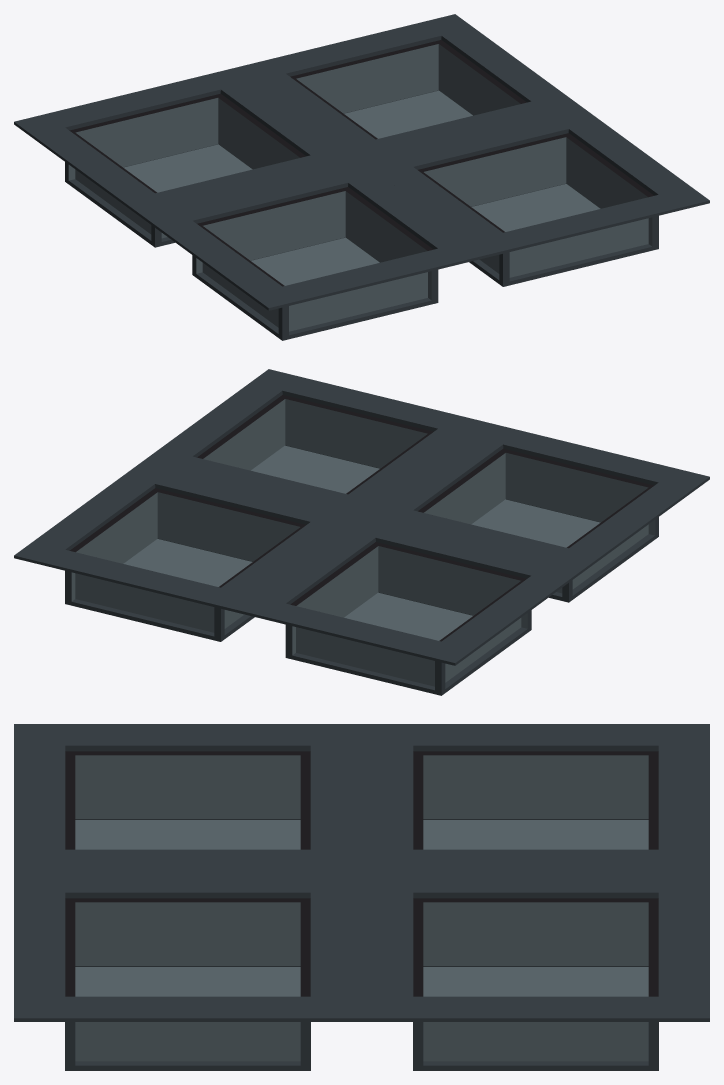
Rendered from podloga.fbx.
3 renders of one model, top to bottom at view 1: azimuth 30°, elevation 25°; view 2: azimuth 150°, elevation 25°; view 3: azimuth 270°, elevation 25°, orthographic. The views are drawn at different scales.
Parts seen in each view (by area): view 1: Cube.300; view 2: Cube.300; view 3: Cube.300.
Part boxes in pixels (x1,y1,x2,y2): Cube.300: (14, 14, 709, 340); Cube.300: (14, 369, 709, 695); Cube.300: (14, 724, 709, 1070).
Size of the model in its own units: 6800 by 800 by 6800.
